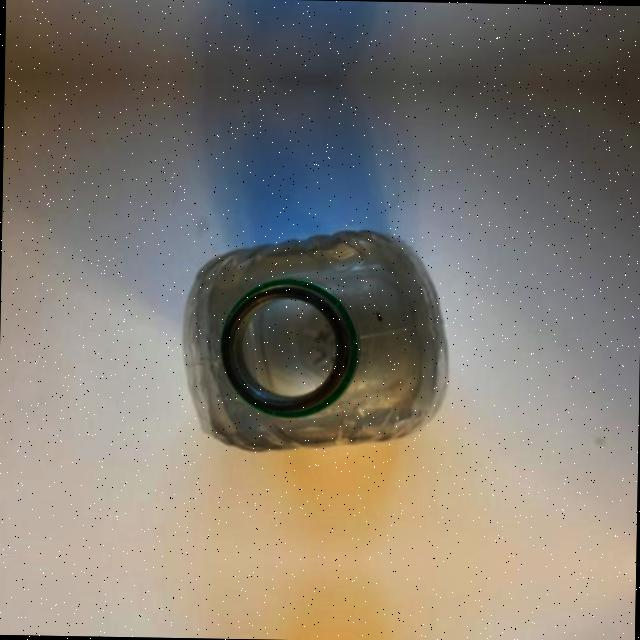Plastic: (111, 218, 478, 471)
